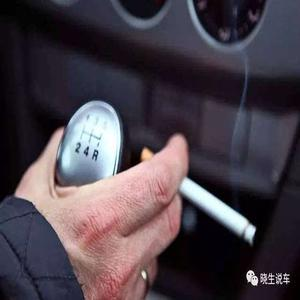cigarette: (141, 150, 261, 247)
